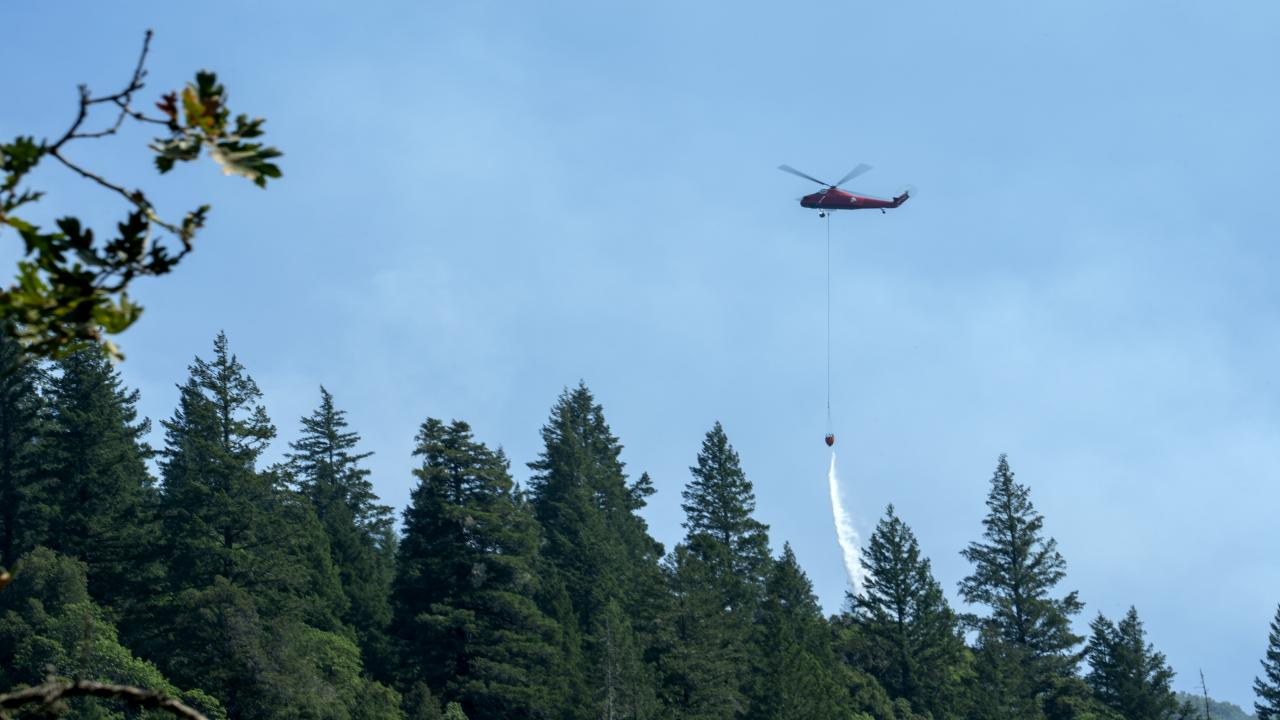Helicopter: (762, 151, 934, 226)
